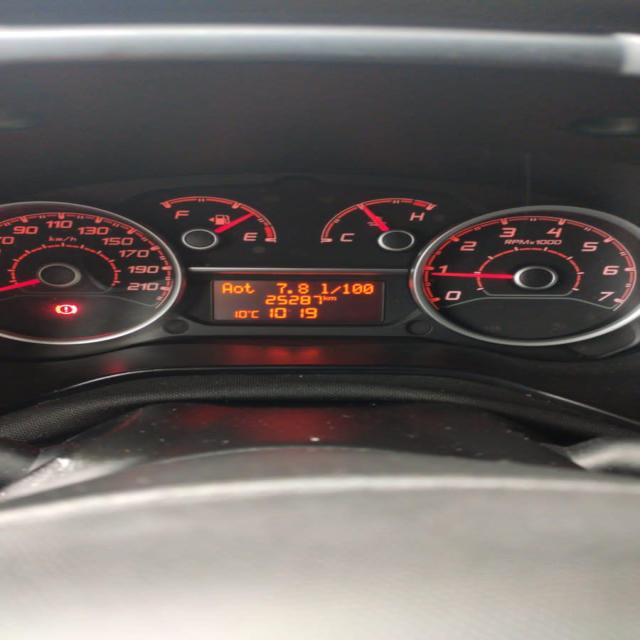odometer: (208, 278, 387, 323)
